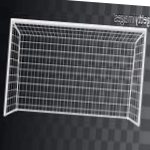goals: (2, 16, 147, 134)
